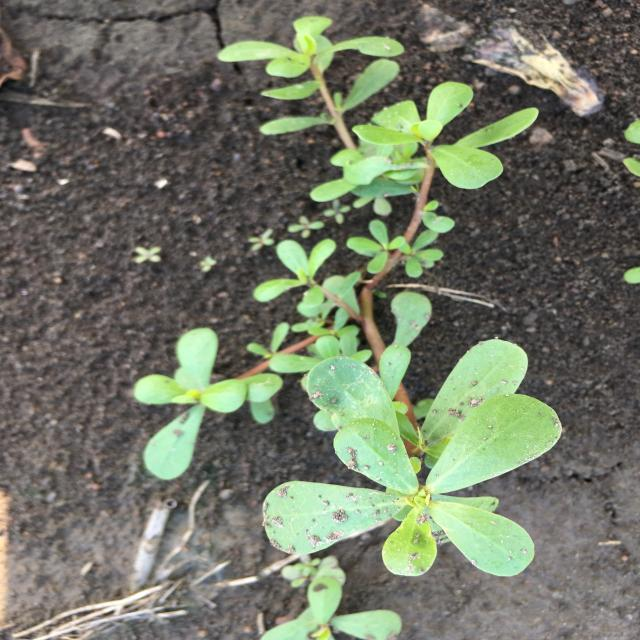Purslane: (133, 16, 562, 579), (258, 556, 402, 640)
